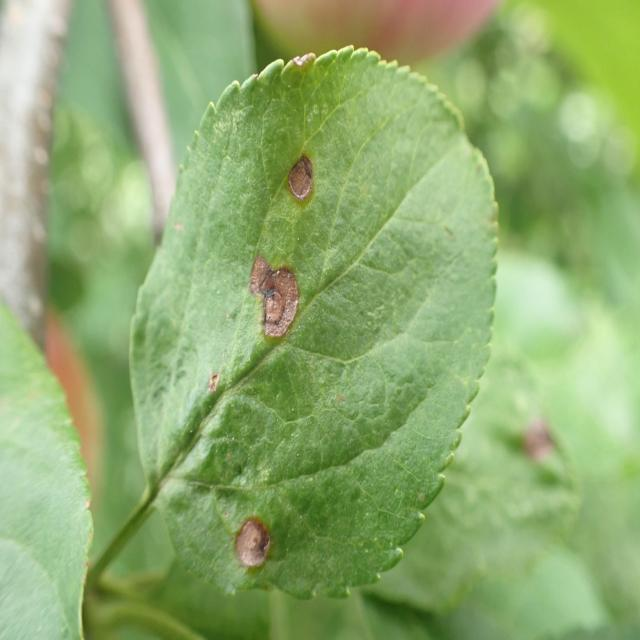Black Rot: (249, 233, 304, 376), (226, 501, 278, 574), (280, 149, 318, 219)
